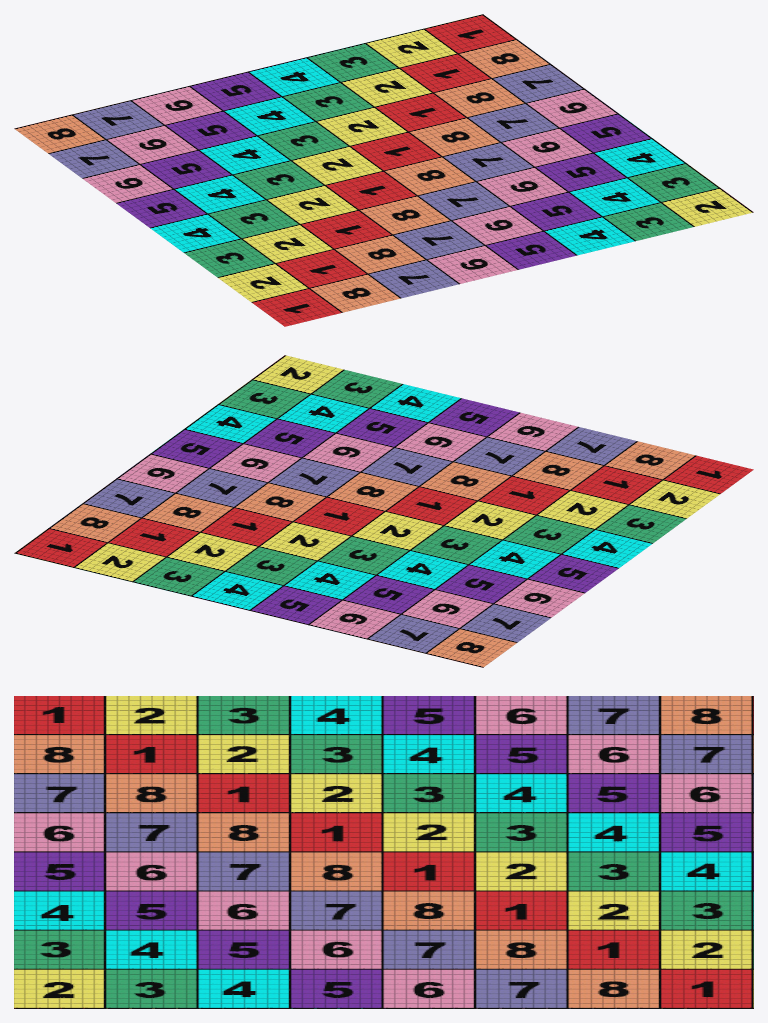
File: watertess_ring2_edge.fbx
3 renders of one model, top to bottom at view 1: azimuth 30°, elevation 25°; view 2: azimuth 150°, elevation 25°; view 3: azimuth 270°, elevation 25°, orthographic. The views are drawn at different scales.
Parts seen in each view (by area): view 1: watertess_ring2_edge; view 2: watertess_ring2_edge; view 3: watertess_ring2_edge.
Boxes of the visible parts, x1,y1,x2,y2 form: watertess_ring2_edge: (14, 14, 753, 326); watertess_ring2_edge: (14, 355, 753, 667); watertess_ring2_edge: (14, 696, 753, 1008).
Size of the model in its own units: 128 by 2.09e-05 by 128.
